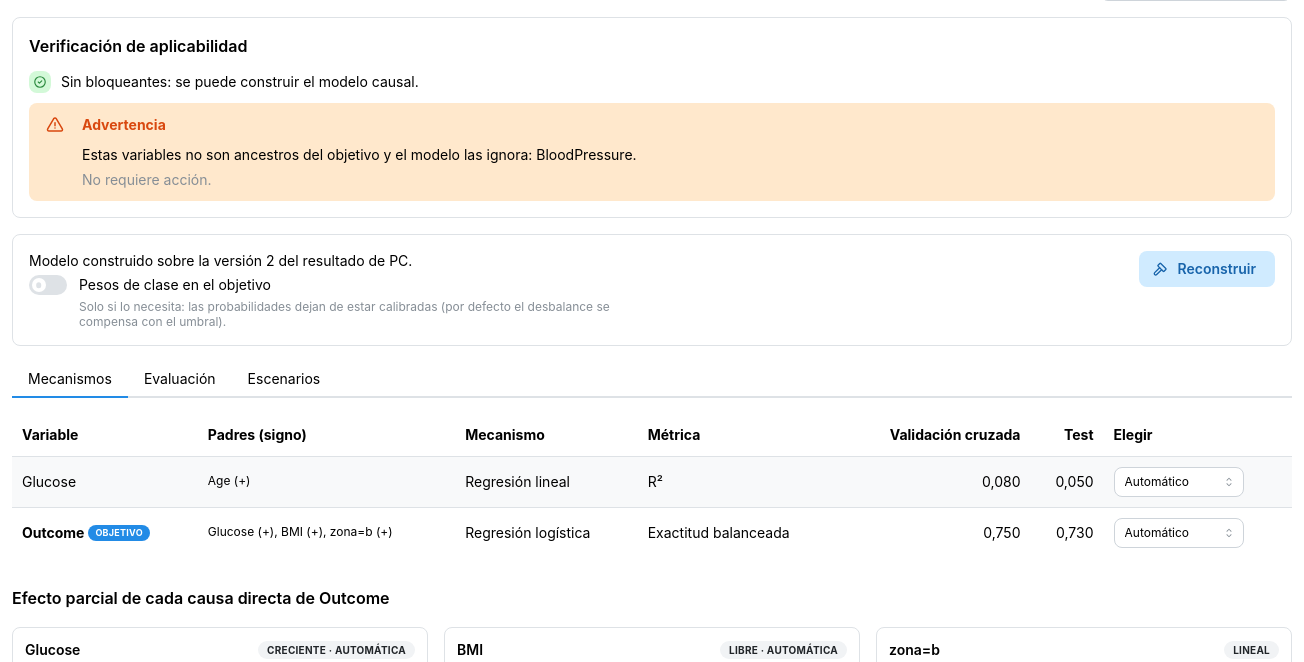
Test case: Modelo causal: evaluación y escenarios › calcula el escenario con la fila de test y las intervenciones, y muestra la propagación
Click the tab "Escenarios" at (284, 380), box top-left (232, 362), bottom-right (336, 398)
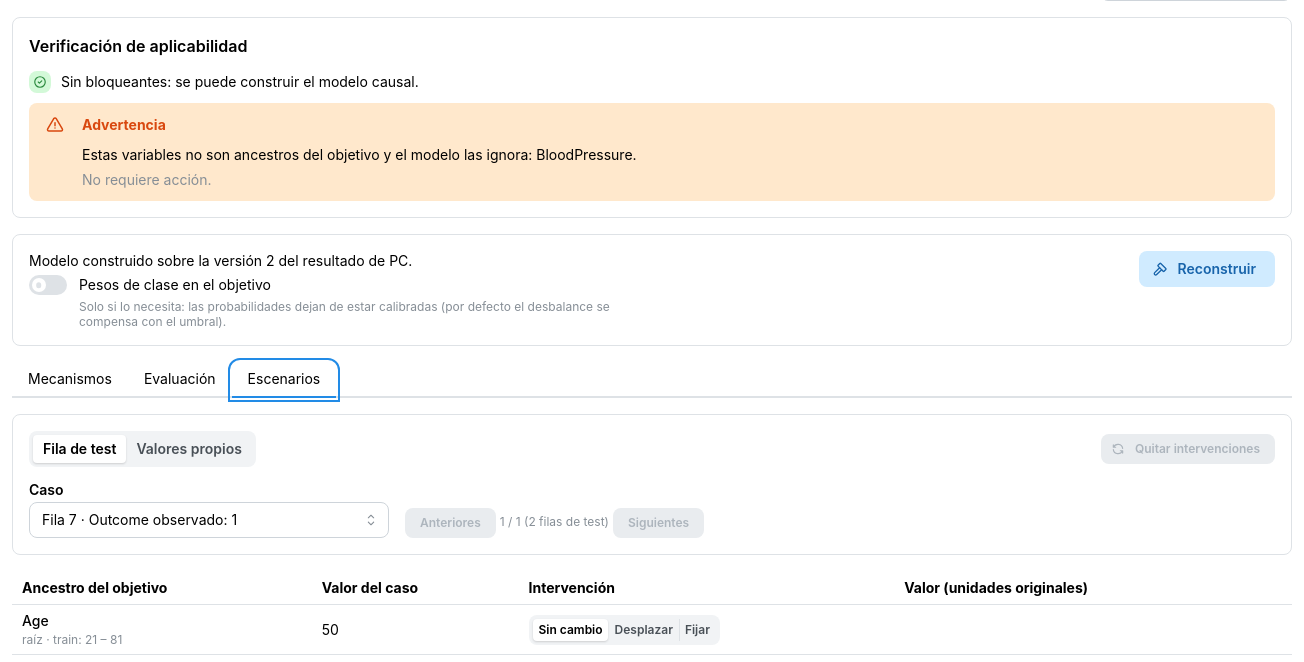
Expected: the text "zona=b" is not shown
# Desplazar Age +40 sale del rango de train (21–81): extrapolación.
Click the text "Desplazar" in the row of "· train: 21 – 81" at (644, 629), box top-left (615, 622), bottom-right (673, 637)
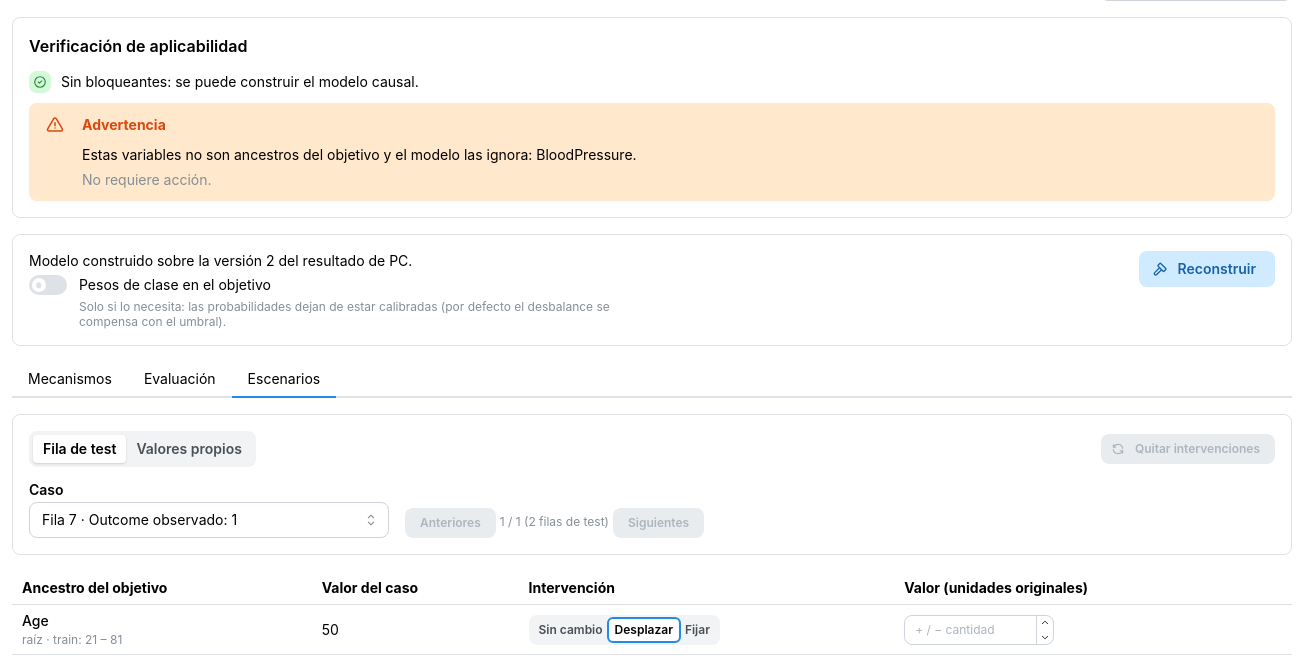
Type "40" into the field named "Valor de Age" at (979, 630), box top-left (904, 615), bottom-right (1054, 645)
(page scrolled)
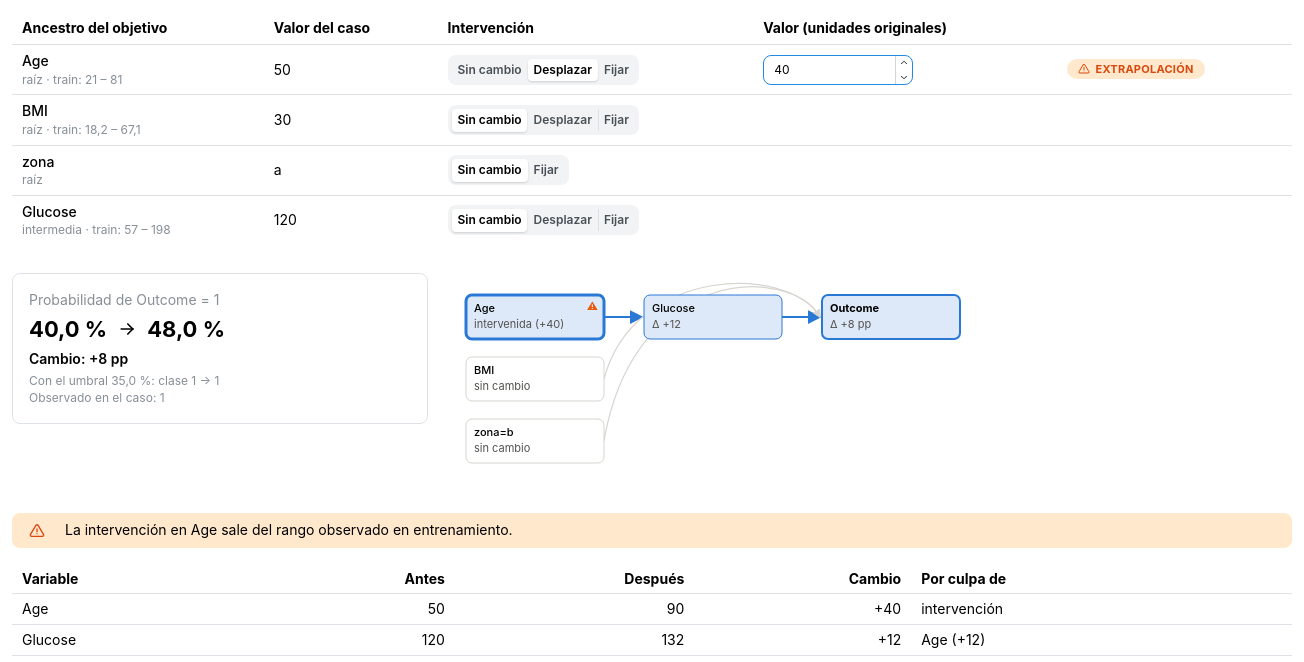
Now the heading with test id "despues" reads "48,0 %", box top-left (147, 316), bottom-right (225, 342)
Now the text "extrapolación" is shown, box top-left (1096, 60), bottom-right (1194, 78)
Now the text "Age (+12)" is shown, box top-left (911, 625), bottom-right (1292, 655)
